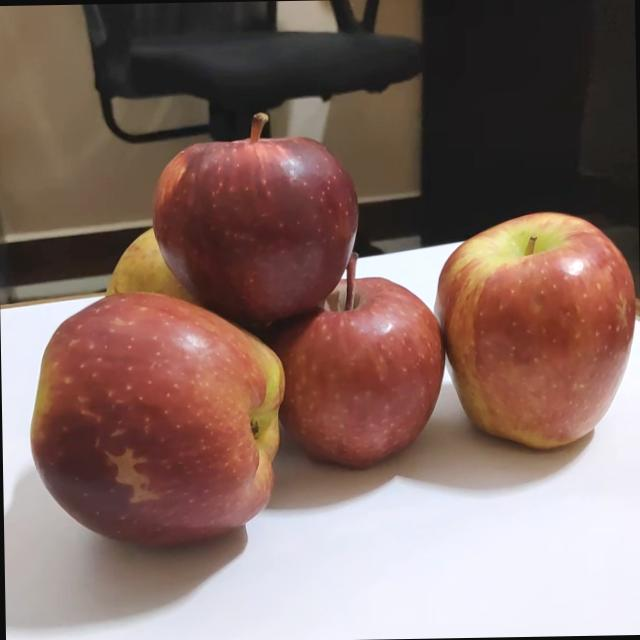apple: (28, 274, 301, 542), (436, 192, 640, 445), (149, 90, 374, 314), (266, 238, 450, 462), (104, 200, 247, 300)
